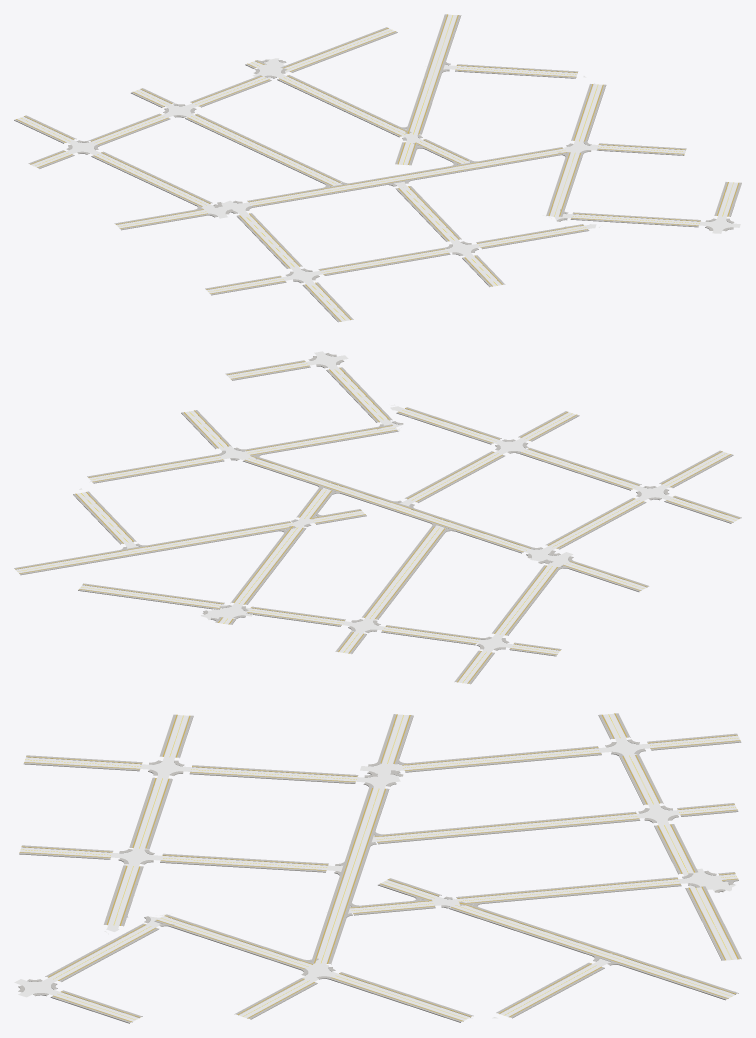
File: roads_-1_2.gltf
3 views of the same model, one above another, from view 1: azimuth 30°, elevation 25°; view 2: azimuth 150°, elevation 25°; view 3: azimuth 270°, elevation 25° (orthographic). The views are drawn at different scales.
Visible parts, largest first — view 1: roads_-1_2_SH_wet_asphalt, roads_-1_2_SH_sidewalk, roads_-1_2_Road_Tactile_Strip, roads_-1_2_SH_kerb, roads_-1_2_SH_road_marking_white, roads_-1_2_SH_road_marking_yellow; view 2: roads_-1_2_SH_wet_asphalt, roads_-1_2_SH_sidewalk, roads_-1_2_Road_Tactile_Strip, roads_-1_2_SH_kerb, roads_-1_2_SH_road_marking_yellow, roads_-1_2_SH_road_marking_white; view 3: roads_-1_2_SH_wet_asphalt, roads_-1_2_SH_sidewalk, roads_-1_2_Road_Tactile_Strip, roads_-1_2_SH_kerb, roads_-1_2_SH_road_marking_yellow, roads_-1_2_SH_road_marking_white.
Boxes of the visible parts, box(x1,y1,x2,y2) form: roads_-1_2_SH_wet_asphalt: box(17, 14, 740, 321); roads_-1_2_SH_sidewalk: box(14, 14, 741, 322); roads_-1_2_Road_Tactile_Strip: box(16, 14, 738, 321); roads_-1_2_SH_kerb: box(17, 15, 738, 321); roads_-1_2_SH_road_marking_white: box(18, 15, 737, 321); roads_-1_2_SH_road_marking_yellow: box(21, 15, 733, 319); roads_-1_2_SH_wet_asphalt: box(16, 351, 738, 683); roads_-1_2_SH_sidewalk: box(14, 353, 741, 684); roads_-1_2_Road_Tactile_Strip: box(15, 361, 739, 683); roads_-1_2_SH_kerb: box(15, 353, 739, 683); roads_-1_2_SH_road_marking_yellow: box(22, 363, 735, 682); roads_-1_2_SH_road_marking_white: box(17, 357, 725, 682); roads_-1_2_SH_wet_asphalt: box(14, 713, 739, 1021); roads_-1_2_SH_sidewalk: box(18, 713, 741, 1023); roads_-1_2_Road_Tactile_Strip: box(19, 713, 740, 1021); roads_-1_2_SH_kerb: box(21, 713, 739, 1022); roads_-1_2_SH_road_marking_yellow: box(23, 714, 737, 1019); roads_-1_2_SH_road_marking_white: box(25, 714, 737, 1017).
Size of what is drawn, in the model's own units: 526 by 0.506 by 521.
